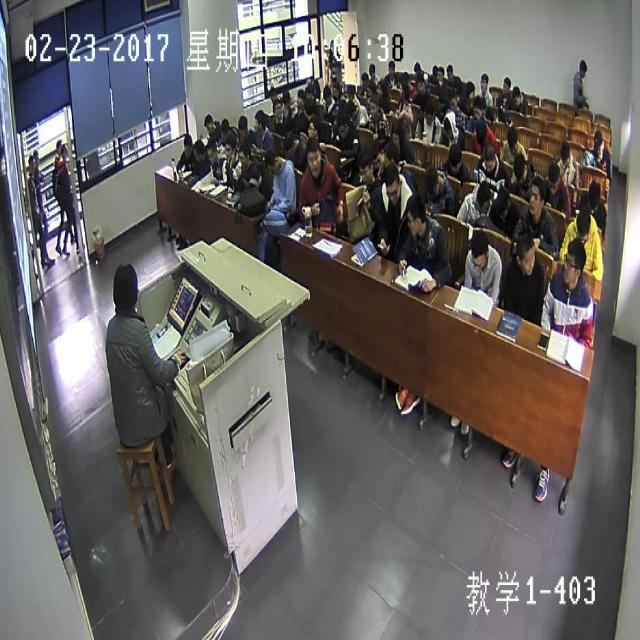person: (110, 259, 139, 311), (563, 238, 584, 288), (404, 194, 426, 235), (469, 228, 488, 266), (518, 231, 534, 275), (474, 180, 493, 215), (385, 165, 402, 201), (306, 143, 322, 175), (447, 142, 464, 172), (527, 181, 542, 215), (575, 206, 590, 240), (545, 162, 560, 195), (358, 155, 373, 185), (440, 110, 456, 138), (202, 142, 221, 165), (376, 133, 390, 164), (262, 148, 280, 172), (424, 164, 438, 194), (282, 128, 296, 158), (587, 178, 599, 212), (335, 115, 350, 142), (388, 121, 404, 146), (235, 112, 249, 140), (374, 76, 388, 104), (482, 146, 496, 172), (252, 109, 267, 133), (307, 75, 320, 102), (505, 127, 519, 151), (576, 54, 588, 82), (329, 71, 342, 96), (513, 156, 526, 181), (304, 115, 316, 142), (181, 133, 196, 154), (359, 68, 373, 90), (422, 102, 434, 126), (220, 114, 233, 136), (474, 117, 487, 139), (322, 82, 332, 110), (594, 129, 603, 160), (296, 86, 307, 111), (560, 139, 570, 166), (30, 144, 42, 166), (345, 81, 356, 105), (399, 82, 410, 106), (478, 74, 490, 96), (59, 142, 69, 168), (445, 56, 455, 82), (500, 75, 510, 100), (271, 101, 284, 120), (225, 143, 238, 162), (204, 108, 215, 130), (24, 158, 36, 178), (239, 148, 251, 168), (367, 96, 377, 120), (53, 136, 64, 156), (448, 90, 458, 112), (192, 139, 203, 159), (470, 100, 481, 120), (511, 84, 520, 108), (282, 85, 292, 106), (366, 60, 377, 79), (387, 56, 396, 77), (328, 38, 339, 54), (269, 85, 279, 102), (438, 65, 447, 83), (430, 61, 440, 77), (412, 59, 422, 73), (416, 80, 424, 96)
